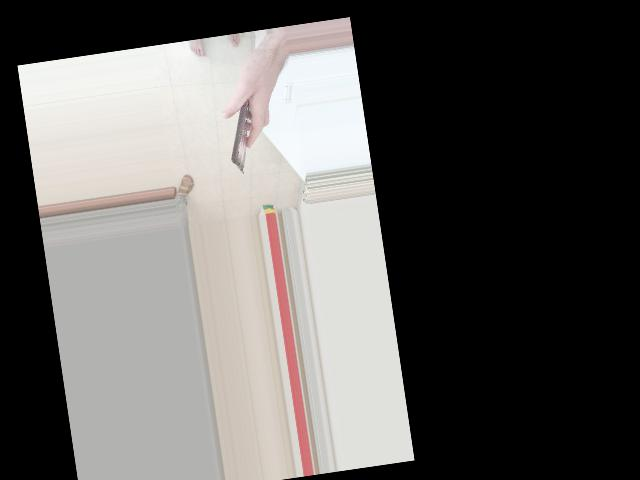chocolate: (215, 50, 274, 173)
